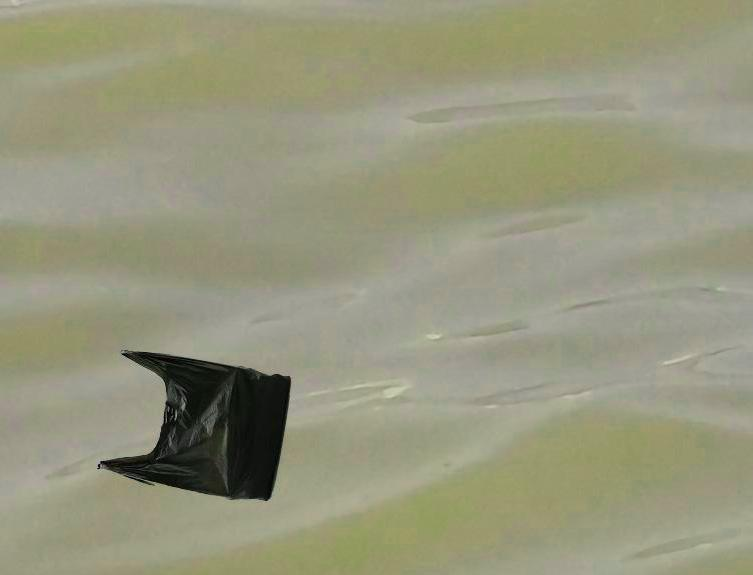Trash: (95, 347, 295, 507)
